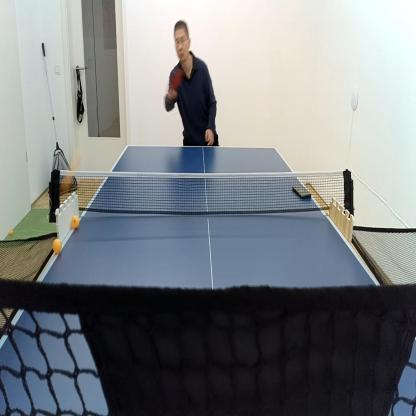Ball: (58, 149, 82, 194), (52, 236, 63, 257), (70, 213, 80, 231), (8, 227, 14, 238)
